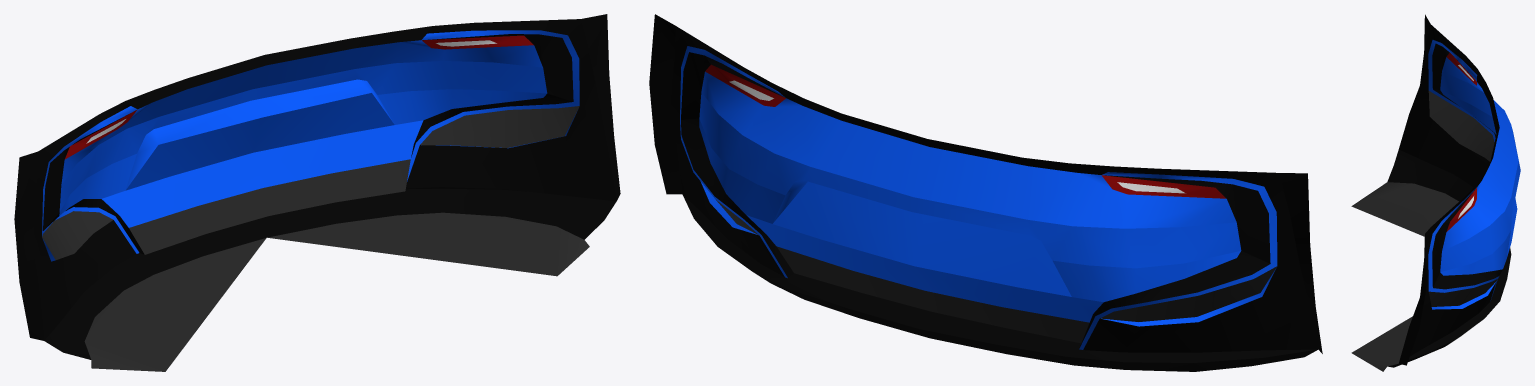
Rendered from Sport_07_Bumper_B_3.fbx.
The picture shows the model from 3 angles, left to right: view 1: azimuth 30°, elevation 25°; view 2: azimuth 150°, elevation 25°; view 3: azimuth 270°, elevation 25°; orthographic projection. The views are drawn at different scales.
Visible parts, largest first — view 1: Sport_07_Bumper_B_3; view 2: Sport_07_Bumper_B_3; view 3: Sport_07_Bumper_B_3.
Boxes of the visible parts, left/top/right/bottom form: Sport_07_Bumper_B_3: left=14, top=14, right=620, bottom=371; Sport_07_Bumper_B_3: left=649, top=14, right=1322, bottom=371; Sport_07_Bumper_B_3: left=1351, top=14, right=1520, bottom=371.
Bounding box in the file's own units: 178 × 58.07 × 57.29.
